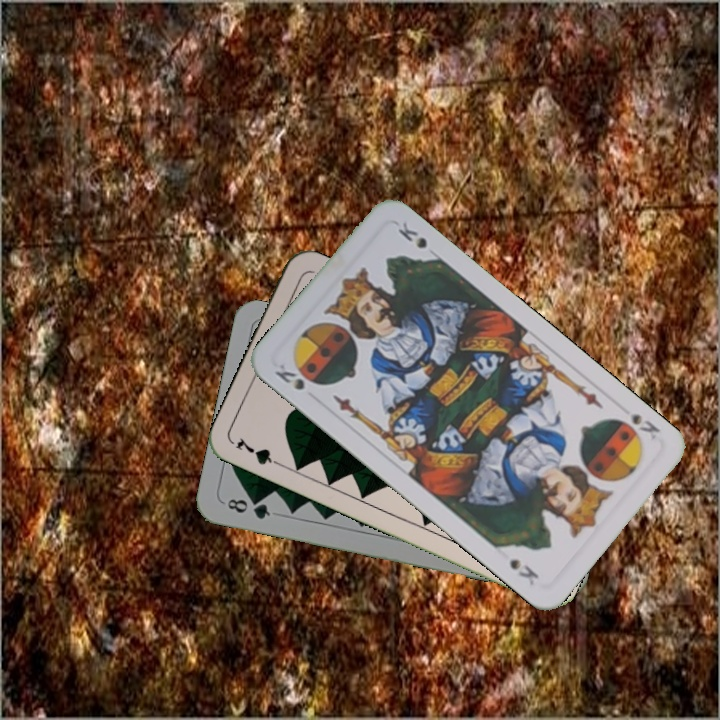G7: (231, 434, 287, 470)
G8: (223, 494, 273, 522)
SK: (270, 359, 319, 393), (626, 409, 663, 443)
